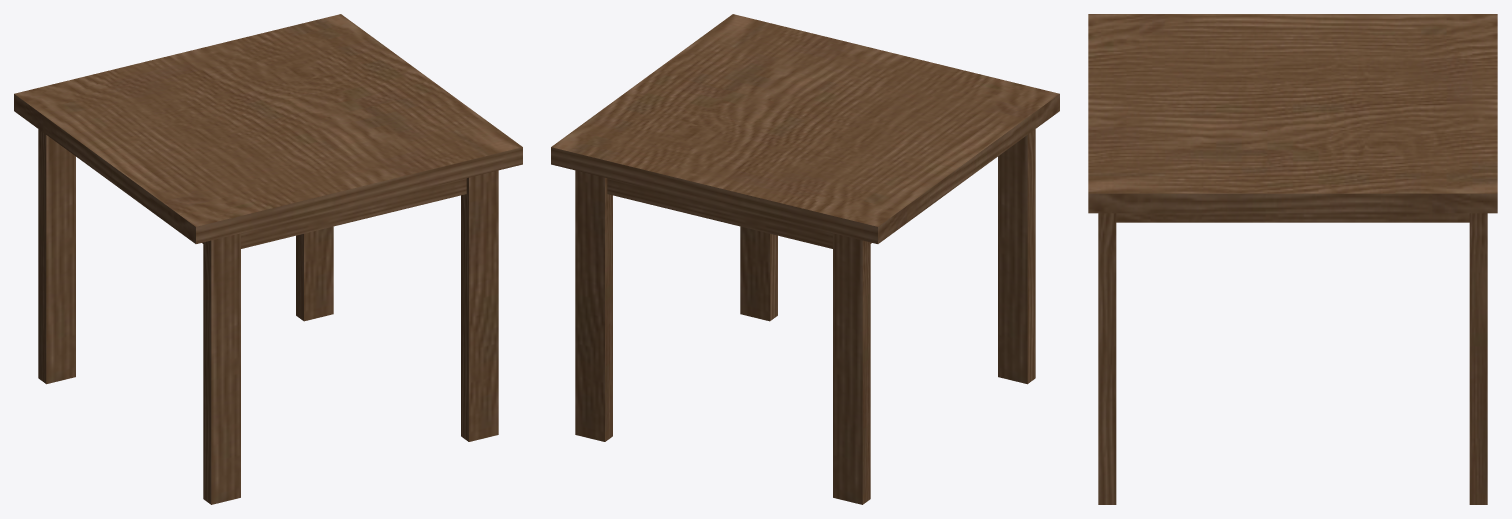
Rendered from Mesa.fbx.
3 views of the same model, side by side, from view 1: azimuth 30°, elevation 25°; view 2: azimuth 150°, elevation 25°; view 3: azimuth 270°, elevation 25° (orthographic). The views are drawn at different scales.
Visible parts, largest first — view 1: Mesa; view 2: Mesa; view 3: Mesa.
Part boxes in pixels (x1,y1,x2,y2): Mesa: (14,14,522,504); Mesa: (551,14,1059,504); Mesa: (1088,14,1497,504).
Size of the model in its own units: 1.22 by 1.17 by 1.02.
Materials: 1 (1 with a texture image).
